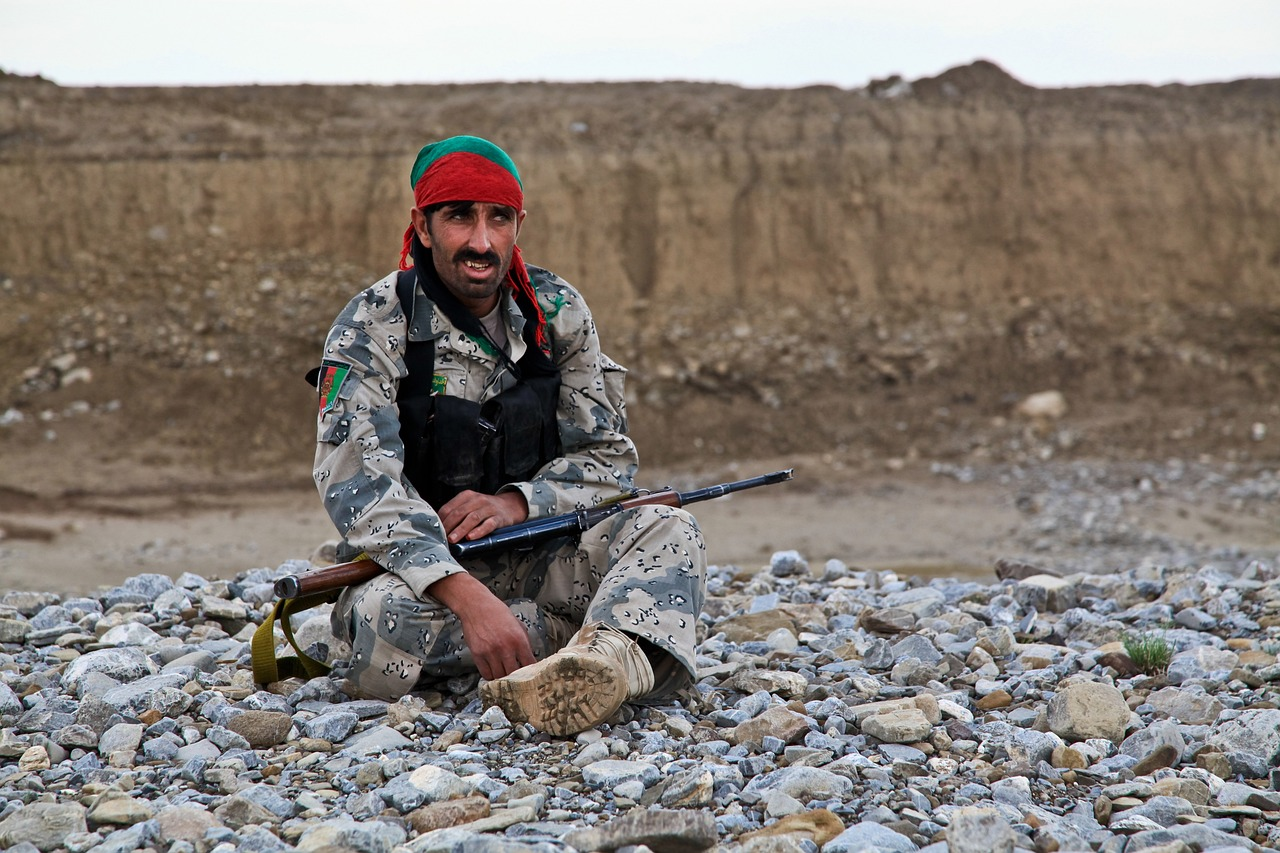gun: (266, 461, 797, 608)
